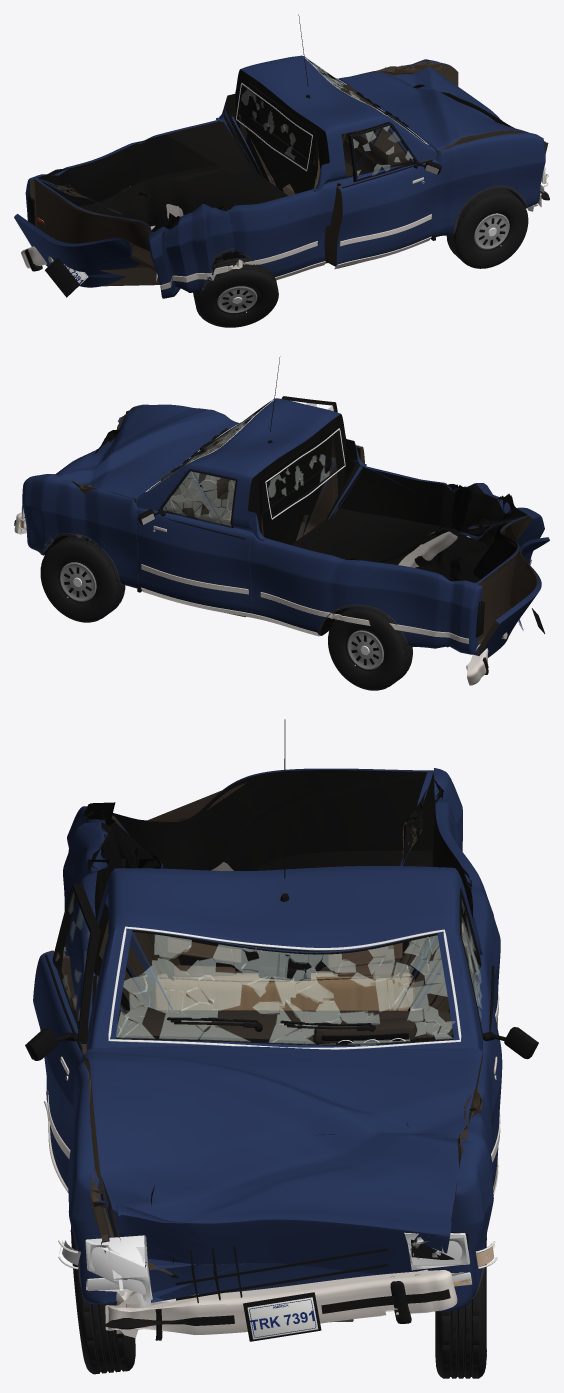
File: pickup87_rear_corner_R_d2.glb
3 views of the same model, one above another, from view 1: azimuth 30°, elevation 25°; view 2: azimuth 150°, elevation 25°; view 3: azimuth 270°, elevation 25° (orthographic). The views are drawn at different scales.
Visible parts, largest first — view 1: Body, Door_FR, Hood, Wheel_FR_mesh, Wheel_RR_mesh, Tailgate, Interior, Trim, Trim_FR, Glass, Ends, Bumper_R (+1 smaller); view 2: Body, Door_FL, Hood, Wheel_FL_mesh, Wheel_RL_mesh, Interior, Tailgate, Trim, Glass_FL, Trim_FL, Glass, Bumper_R (+1 smaller); view 3: Body, Hood, Glass, Interior, Bumper_F, Ends, Door_FR, Wheel_FL_mesh, Wheel_FR_mesh, Door_FL, Trim_FR, Trim (+2 smaller).
Boxes of the visible parts, box(x1,y1,x2,y2) form: Body: box(25, 55, 548, 298); Door_FR: box(324, 121, 437, 266); Hood: box(338, 67, 528, 155); Wheel_FR_mesh: box(446, 188, 528, 268); Wheel_RR_mesh: box(193, 258, 278, 327); Tailgate: box(14, 214, 159, 287); Interior: box(286, 85, 408, 191); Trim: box(160, 14, 527, 292); Trim_FR: box(334, 123, 441, 269); Glass: box(236, 57, 428, 171); Ends: box(27, 167, 548, 297); Bumper_R: box(21, 204, 183, 271); Body: box(22, 398, 544, 654); Door_FL: box(136, 468, 252, 613); Hood: box(55, 404, 238, 537); Wheel_FL_mesh: box(40, 536, 125, 622); Wheel_RL_mesh: box(328, 607, 412, 690); Interior: box(160, 432, 237, 525); Tailgate: box(474, 537, 549, 657); Trim: box(40, 356, 531, 646); Glass_FL: box(162, 469, 236, 527); Trim_FL: box(138, 469, 252, 617); Glass: box(145, 399, 345, 519); Bumper_R: box(398, 531, 488, 685); Body: box(63, 768, 500, 1311); Hood: box(83, 1046, 482, 1278); Glass: box(108, 926, 461, 1049); Interior: box(116, 937, 452, 1043); Bumper_F: box(104, 1269, 457, 1340); Ends: box(58, 858, 497, 1341); Door_FR: box(33, 883, 102, 1194); Wheel_FL_mesh: box(435, 1234, 486, 1378); Wheel_FR_mesh: box(70, 1205, 135, 1374); Door_FL: box(459, 887, 502, 1186); Trim_FR: box(25, 884, 91, 1193); Trim: box(63, 719, 499, 1299).
Bounding box in the file's own units: 4.97 × 2.6 × 2.36.
34 materials, 5 textured.
